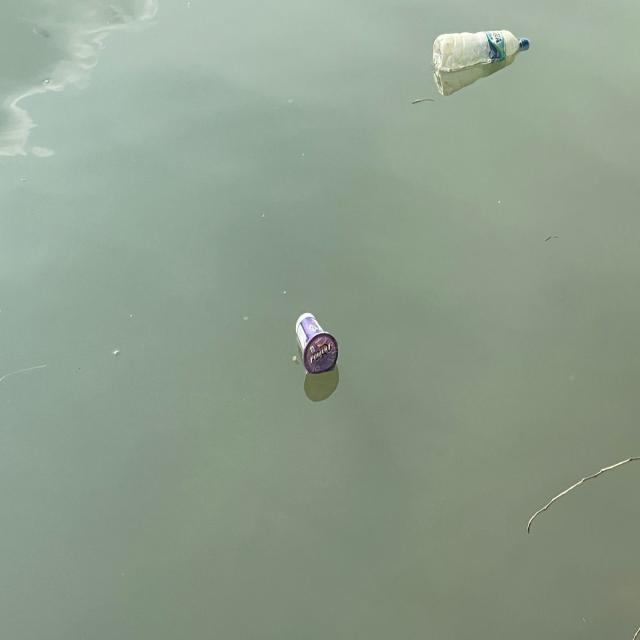Botol Plastik: (428, 19, 536, 89)
Bungkus Minuman: (287, 303, 352, 385)
